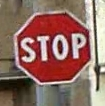stop: (11, 8, 96, 86)
